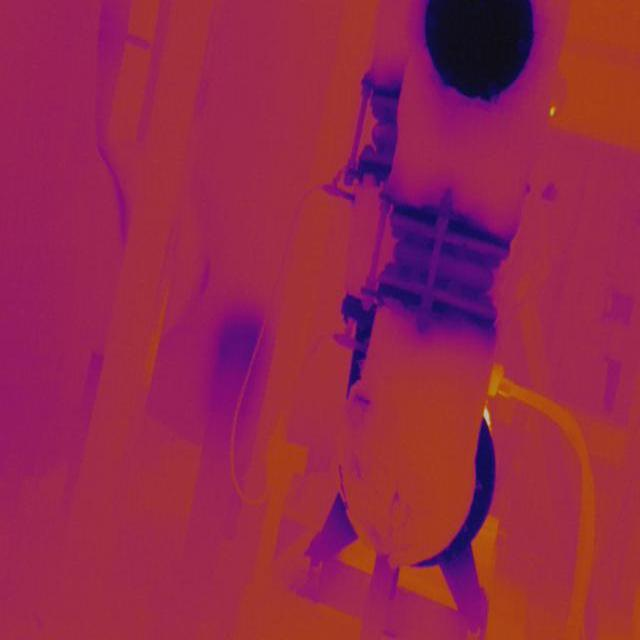leakage: (349, 380, 374, 420)
